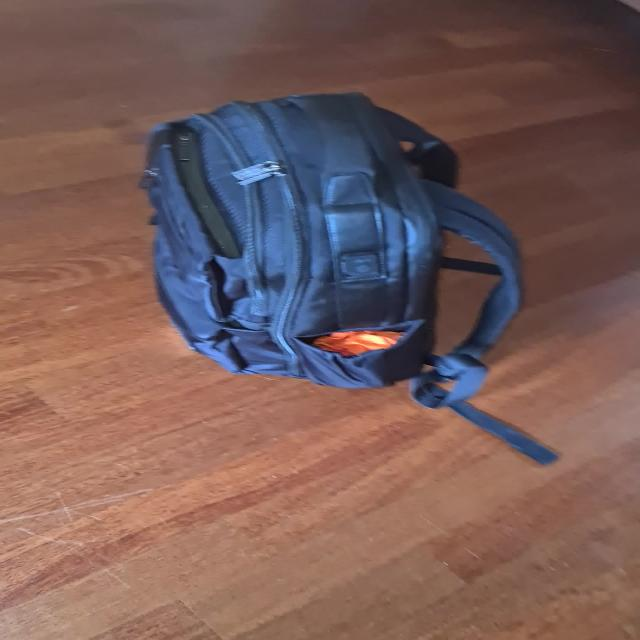backpack: (127, 78, 533, 396)
